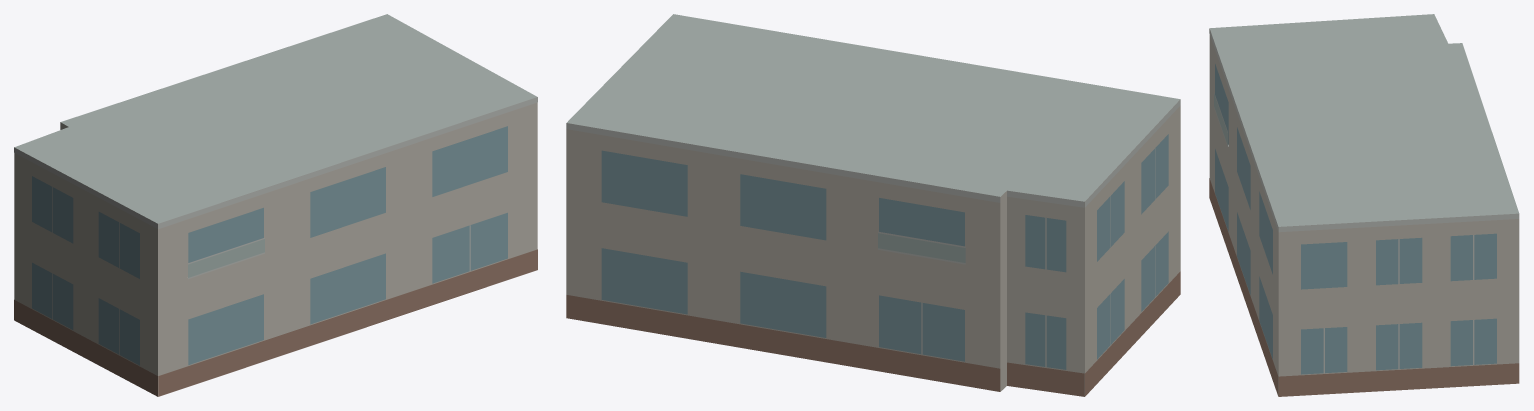
Rendered from survey-upis-32742639.glb.
3 views of the same model, side by side, from view 1: azimuth 30°, elevation 25°; view 2: azimuth 150°, elevation 25°; view 3: azimuth 270°, elevation 25° (orthographic). The views are drawn at different scales.
Parts seen in each view (by area): view 1: survey-upis-32742639.tmp; view 2: survey-upis-32742639.tmp; view 3: survey-upis-32742639.tmp.
Boxes of the visible parts, x1,y1,x2,y2 form: survey-upis-32742639.tmp: [14, 14, 537, 396]; survey-upis-32742639.tmp: [566, 14, 1180, 396]; survey-upis-32742639.tmp: [1209, 14, 1519, 396].
Size of the model in its own units: 20.97 by 7.8 by 12.9.
